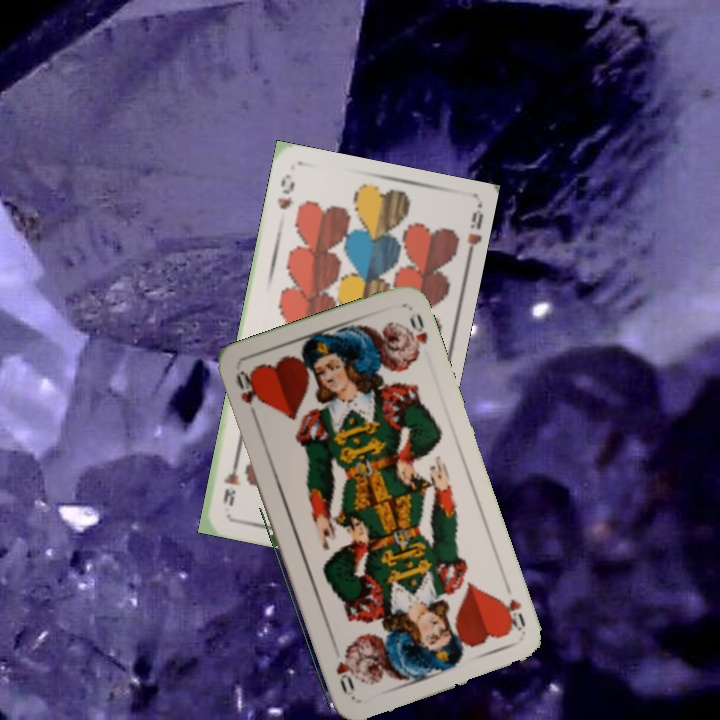H9: (273, 170, 297, 212)
HO: (232, 366, 261, 424), (495, 594, 529, 638)
